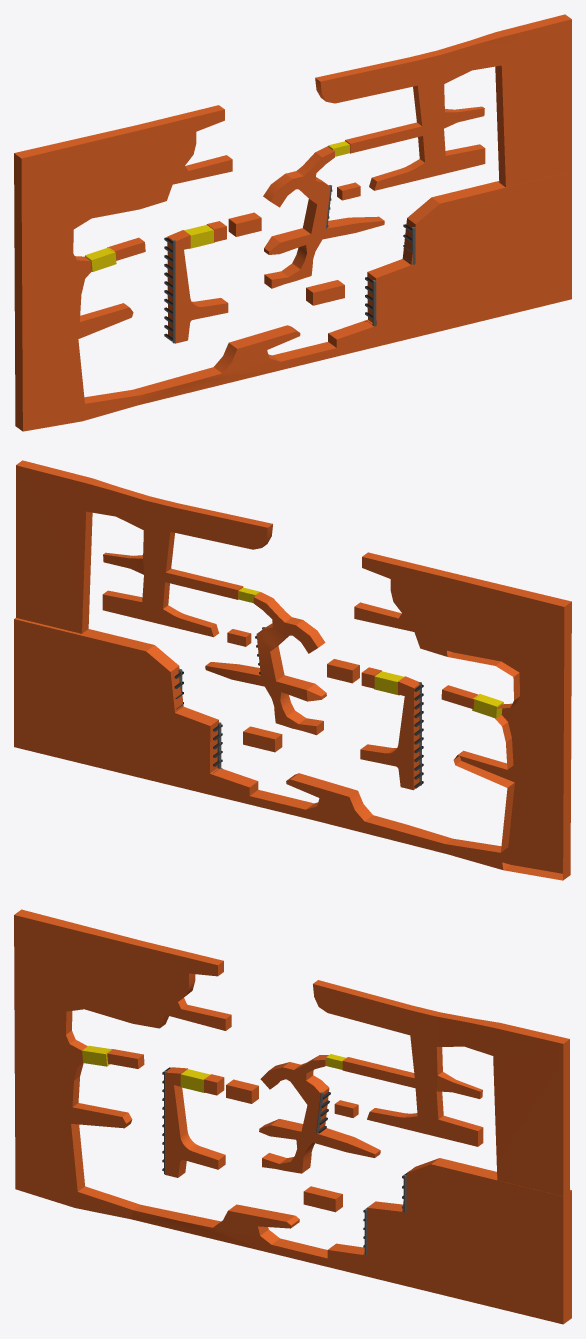
The model's file is Map01.fbx.
3 views of the same model, one above another, from view 1: azimuth 30°, elevation 25°; view 2: azimuth 150°, elevation 25°; view 3: azimuth 330°, elevation 25° (orthographic).
Parts seen in each view (by area): view 1: Cube.021, Cube.019, Cube.026; view 2: Cube.021, Cube.026, Cube.019; view 3: Cube.021, Cube.026, Cube.019.
Part boxes in pixels (<box>): Cube.021: <box>14,14,571,431</box>; Cube.019: <box>164,185,415,343</box>; Cube.026: <box>85,141,349,271</box>; Cube.021: <box>14,460,571,880</box>; Cube.026: <box>238,587,503,718</box>; Cube.019: <box>174,627,423,788</box>; Cube.021: <box>14,909,571,1324</box>; Cube.026: <box>82,1045,346,1092</box>; Cube.019: <box>162,1067,407,1255</box>.
Size of the model in its own units: 8866 by 4375 by 255.
